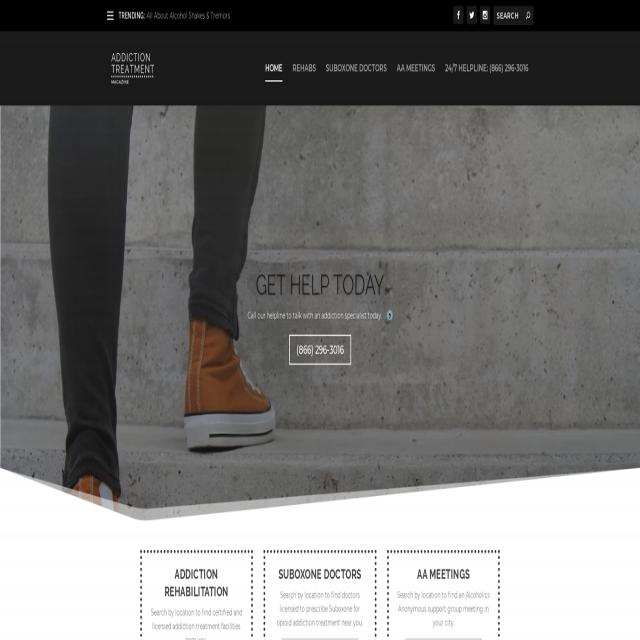button: (264, 548, 376, 640), (387, 548, 499, 640), (140, 549, 252, 640), (442, 56, 534, 84), (107, 49, 158, 88), (289, 335, 351, 364), (324, 57, 389, 83), (394, 57, 436, 83), (289, 57, 319, 83), (262, 57, 284, 85), (105, 6, 116, 26), (453, 6, 463, 24), (466, 6, 476, 24), (480, 6, 490, 24), (524, 10, 532, 22), (387, 310, 393, 321)
field: (493, 7, 533, 26)
